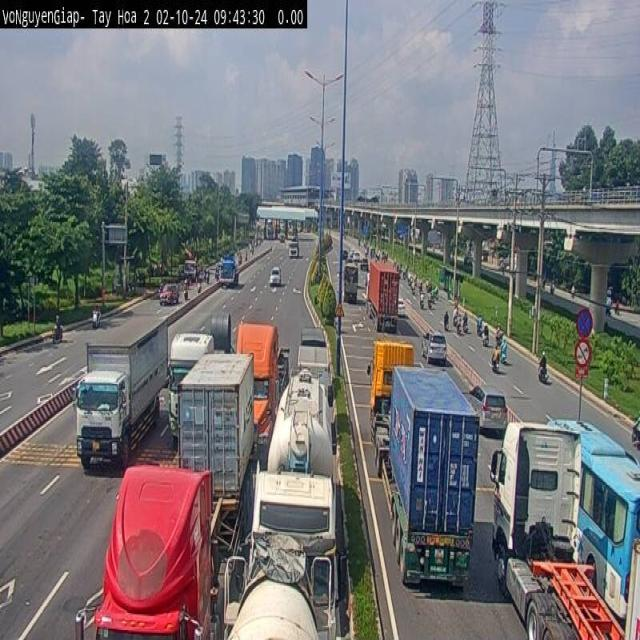bus: (549, 414, 640, 626)
car: (467, 370, 511, 458), (424, 308, 456, 384), (157, 275, 186, 318), (266, 262, 290, 302)
container-truck: (75, 354, 258, 640), (228, 368, 358, 640), (500, 397, 640, 640), (368, 332, 478, 602), (165, 309, 232, 441), (235, 320, 291, 445), (362, 255, 412, 330)
motorcycle: (625, 405, 640, 450), (534, 373, 561, 395), (482, 356, 502, 382), (86, 316, 104, 342), (440, 317, 457, 338), (52, 328, 71, 345), (498, 340, 510, 359), (196, 275, 208, 292), (474, 324, 488, 338), (480, 336, 490, 354)
person: (540, 342, 555, 367), (54, 300, 63, 328), (92, 291, 100, 318), (495, 316, 504, 340), (474, 307, 480, 333), (198, 271, 207, 288), (481, 318, 488, 338), (442, 306, 447, 332)
truck: (77, 312, 166, 467), (340, 258, 361, 316), (215, 250, 244, 291)
